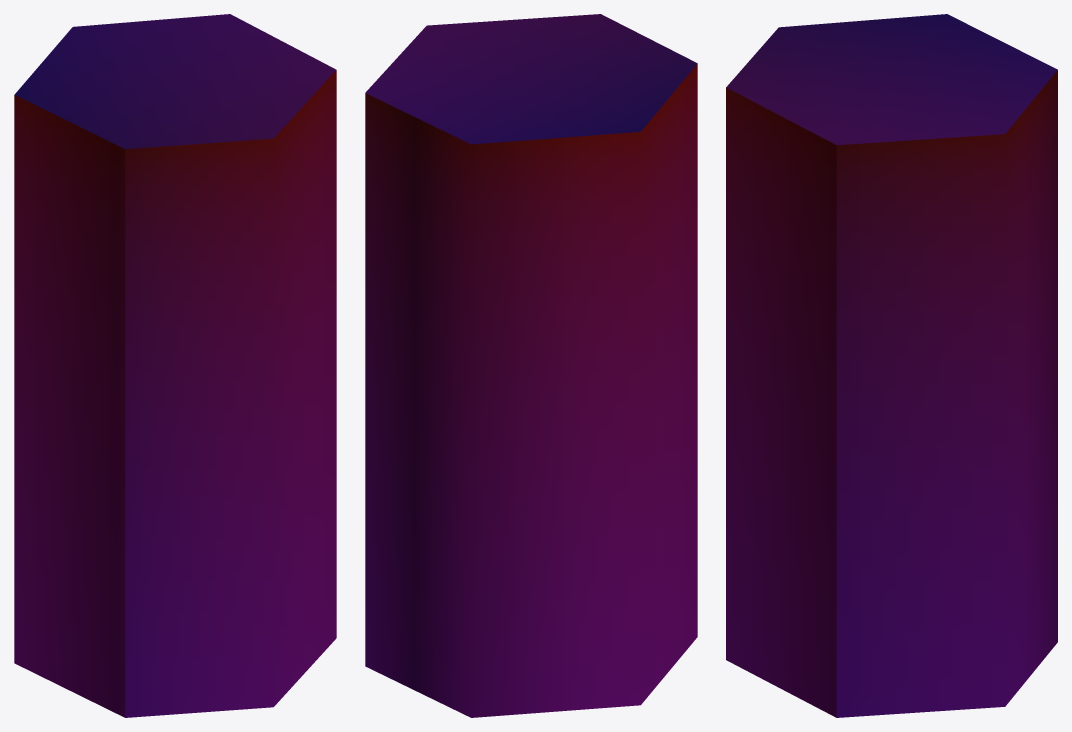
The model's file is model_2CCA.glb.
3 renders of one model, left to right at view 1: azimuth 30°, elevation 25°; view 2: azimuth 150°, elevation 25°; view 3: azimuth 270°, elevation 25°, orthographic.
Parts seen in each view (by area): view 1: part; view 2: part; view 3: part.
Part boxes in pixels (box(x1,y1,x2,y2)): part: box(14, 14, 336, 717); part: box(365, 14, 697, 717); part: box(726, 14, 1057, 717).
Bounding box in the file's own units: 7611 × 15480 × 8127.
